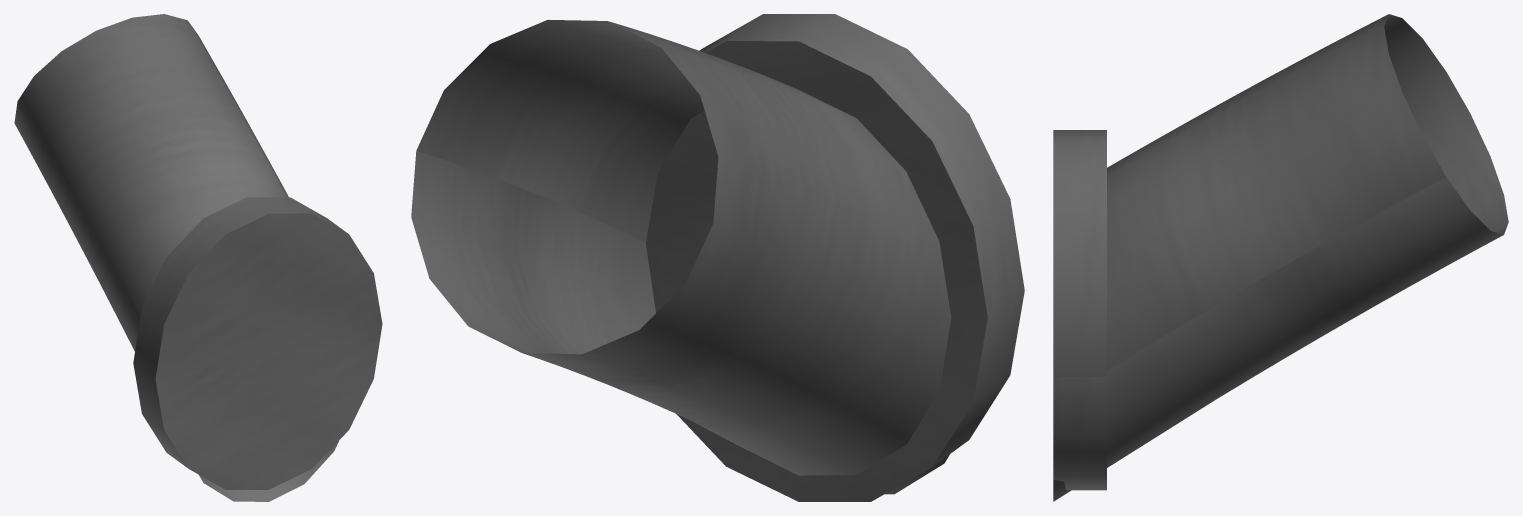
The model's file is mastarmcurve_6x2_c0.obj.
3 renders of one model, left to right at view 1: azimuth 30°, elevation 25°; view 2: azimuth 150°, elevation 25°; view 3: azimuth 270°, elevation 25°, orthographic. The views are drawn at different scales.
Parts seen in each view (by area): view 1: mastarm_6x2_c0; view 2: mastarm_6x2_c0; view 3: mastarm_6x2_c0.
Boxes of the visible parts, x1,y1,x2,y2 form: mastarm_6x2_c0: (14,14,382,501); mastarm_6x2_c0: (411,14,1024,501); mastarm_6x2_c0: (1053,14,1508,501).
Bounding box in the file's own units: 0.775 × 1.25 × 1.11.
